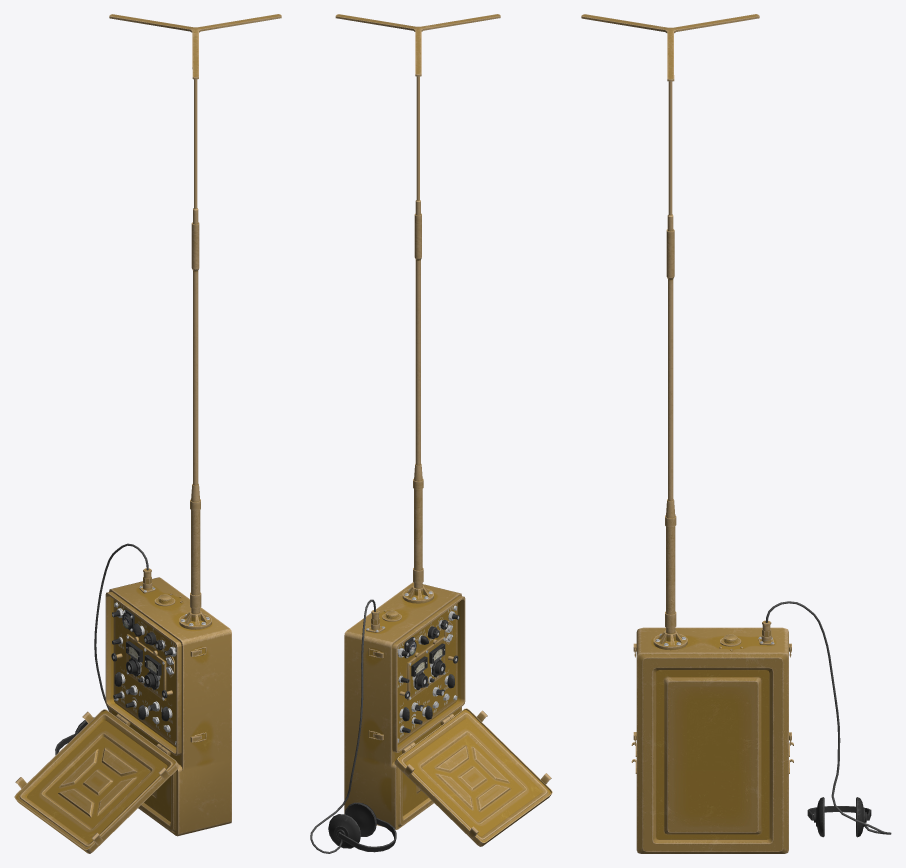
File: 硅两瓦电台.FBX
The picture shows the model from 3 angles, left to right: view 1: azimuth 30°, elevation 25°; view 2: azimuth 150°, elevation 25°; view 3: azimuth 270°, elevation 25°; orthographic projection. The views are drawn at different scales.
Parts seen in each view (by area): view 1: 硅两瓦电台; view 2: 硅两瓦电台; view 3: 硅两瓦电台.
Part boxes in pixels (x1,y1,x2,y2): 硅两瓦电台: (14, 14, 281, 853); 硅两瓦电台: (310, 14, 552, 853); 硅两瓦电台: (581, 14, 891, 853).
Bounding box in the file's own units: 0.6597 × 2.36 × 0.8132.
